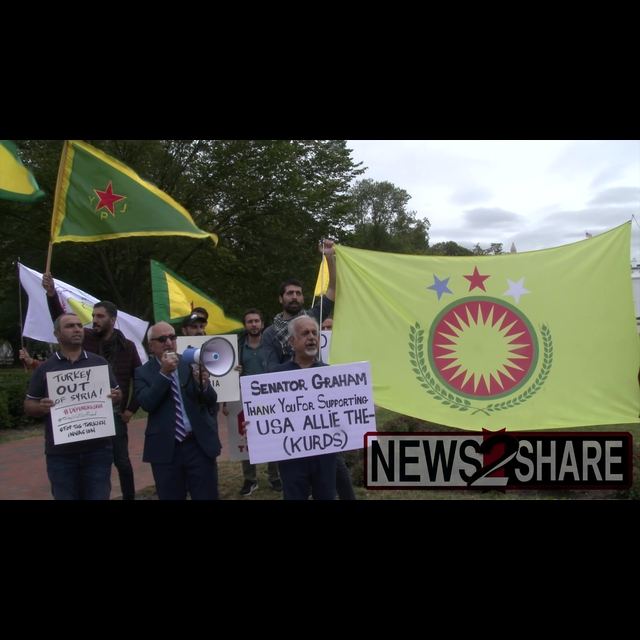YPJ: (86, 179, 135, 225)
